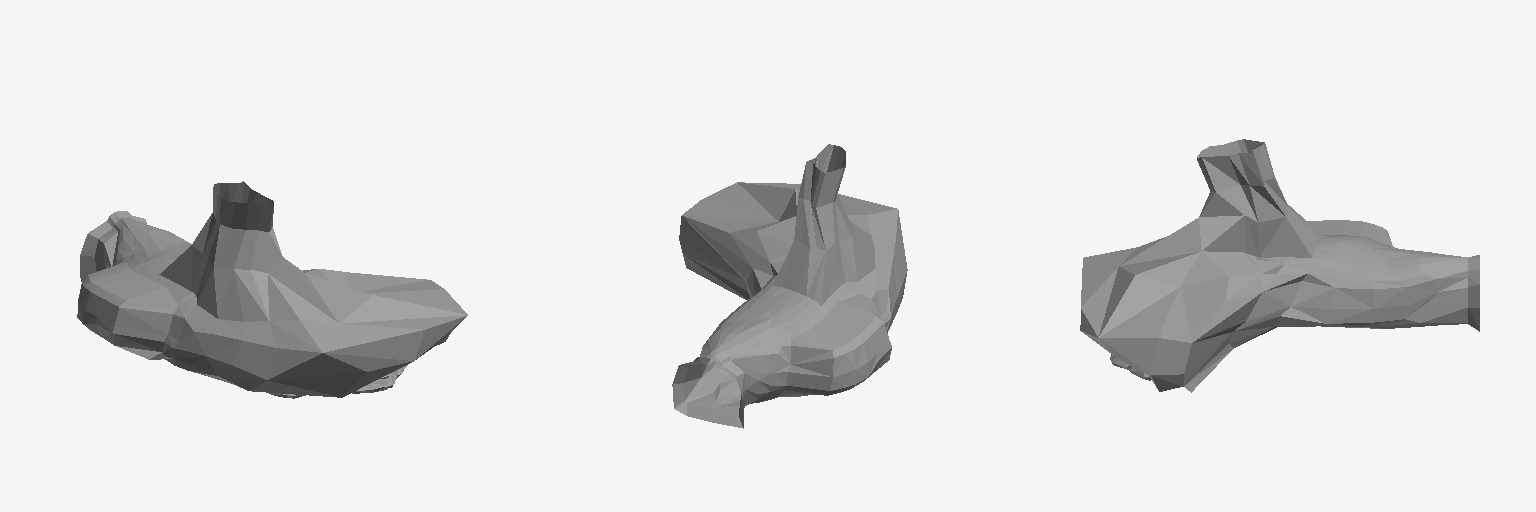
File: caveAndBase.obj
3 views of the same model, side by side, from view 1: azimuth 30°, elevation 25°; view 2: azimuth 150°, elevation 25°; view 3: azimuth 270°, elevation 25° (orthographic).
Parts seen in each view (by area): view 1: MainChamberONE300, CaveFallsOne300; view 2: MainChamberONE300; view 3: MainChamberONE300.
Part boxes in pixels (x1,y1,x2,y2): MainChamberONE300: (77,181,467,397); CaveFallsOne300: (269,365,407,398); MainChamberONE300: (672,144,907,428); MainChamberONE300: (1080,139,1479,392).
Size of the model in its own units: 132 by 83.19 by 166.